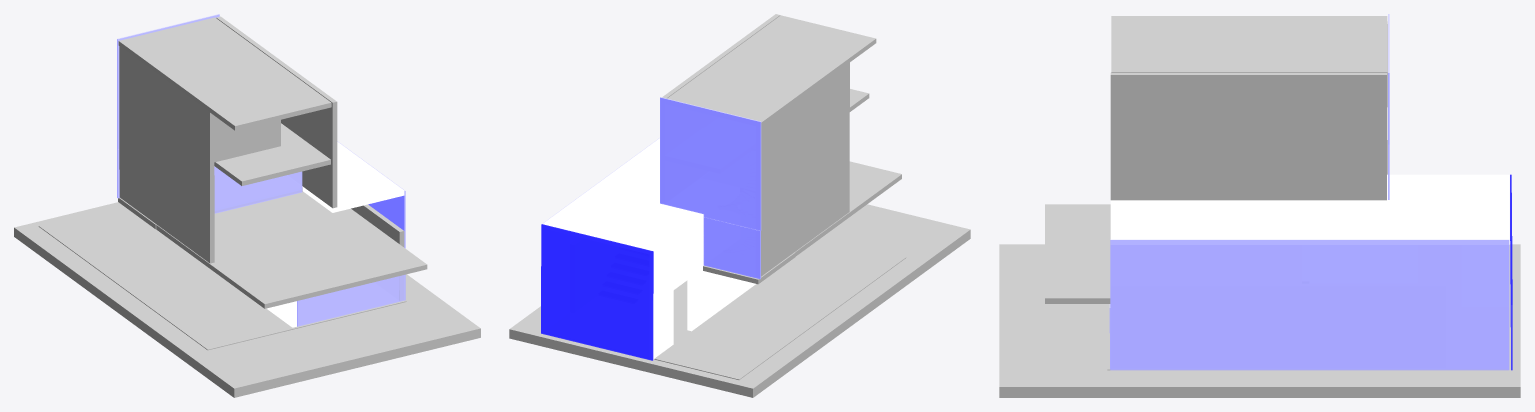
The model's file is 1 mvdr.glb.
3 views of the same model, side by side, from view 1: azimuth 30°, elevation 25°; view 2: azimuth 150°, elevation 25°; view 3: azimuth 270°, elevation 25° (orthographic). The views are drawn at different scales.
Parts seen in each view (by area): view 1: Cube.006, Cube.005, Piso planta baja, Cube.003, Cube.004, Cube.001, Cube.011, Cube.012, Cube, Cube.002, Cube.013, Cube.009 (+3 smaller); view 2: Piso planta baja, Cube.006, Cube.003, Cube.007, Cube.004, Cube.010, Cube, Muro 1 planta Baja 1-A.001, Cube.014, Cube.005, Cube.001, Cube.015; view 3: Cube.009, Cube.001, Cube.006, Cube, Cube.004, Cube.005, Cube.007.
Part boxes in pixels (x1,y1,x2,y2): Cube.006: (14, 202, 480, 397); Cube.005: (156, 191, 427, 308); Piso planta baja: (38, 205, 406, 350); Cube.003: (119, 46, 214, 263); Cube.004: (118, 17, 331, 130); Cube.001: (216, 16, 337, 208); Cube.011: (214, 123, 330, 185); Cube.012: (297, 275, 405, 326); Cube: (302, 141, 404, 212); Cube.002: (214, 166, 302, 213); Cube.013: (214, 116, 280, 162); Cube.009: (337, 141, 405, 299); Piso planta baja: (654, 237, 906, 379); Cube.006: (509, 204, 970, 397); Cube.003: (761, 62, 849, 276); Cube.007: (541, 224, 653, 360); Cube.004: (667, 15, 876, 126); Cube.010: (660, 97, 761, 230); Cube: (543, 138, 703, 254); Muro 1 planta Baja 1-A.001: (653, 219, 755, 359); Cube.014: (703, 217, 760, 279); Cube.005: (795, 161, 901, 256); Cube.001: (662, 14, 780, 98); Cube.015: (703, 252, 795, 284); Cube.009: (1110, 239, 1509, 370); Cube.001: (1110, 72, 1386, 200); Cube.006: (999, 244, 1520, 397); Cube: (1110, 174, 1509, 244); Cube.004: (1111, 16, 1387, 76); Cube.005: (1045, 204, 1110, 303); Cube.007: (1510, 174, 1512, 370).
Size of what is drawn, in the model's own units: 11 by 9.67 by 17.
